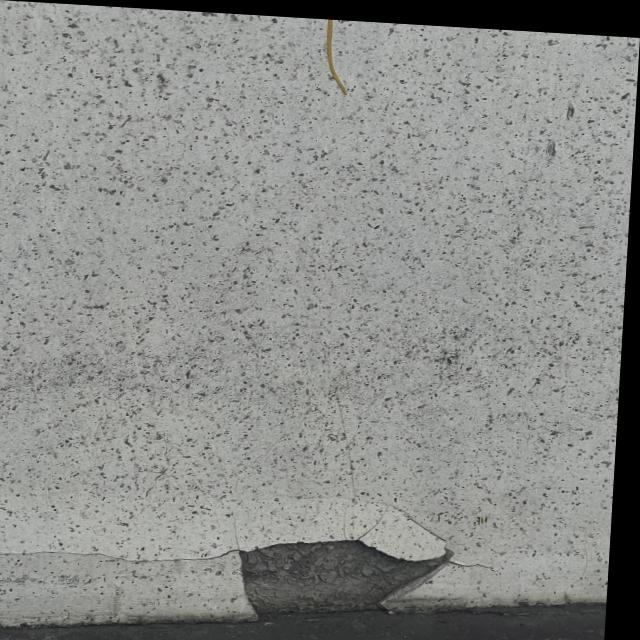spalling: (177, 490, 478, 639)
